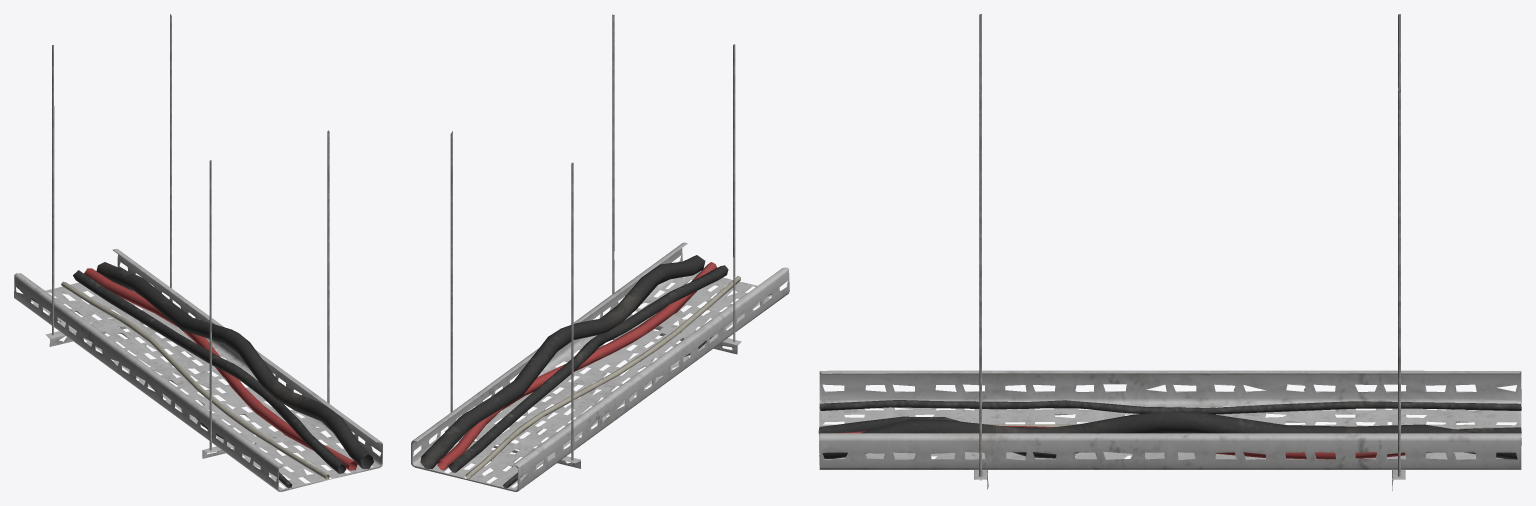
Rendered from SM_Overhead_Utilities06.fbx.
3 renders of one model, left to right at view 1: azimuth 30°, elevation 25°; view 2: azimuth 150°, elevation 25°; view 3: azimuth 270°, elevation 25°, orthographic. The views are drawn at different scales.
Parts seen in each view (by area): view 1: SM_Overhead_Utilities06_LOD0; view 2: SM_Overhead_Utilities06_LOD0; view 3: SM_Overhead_Utilities06_LOD0.
Boxes of the visible parts, x1,y1,x2,y2 form: SM_Overhead_Utilities06_LOD0: [14, 14, 382, 491]; SM_Overhead_Utilities06_LOD0: [411, 14, 789, 491]; SM_Overhead_Utilities06_LOD0: [818, 14, 1521, 490].
Size of the model in its own units: 56.82 by 200 by 126.
